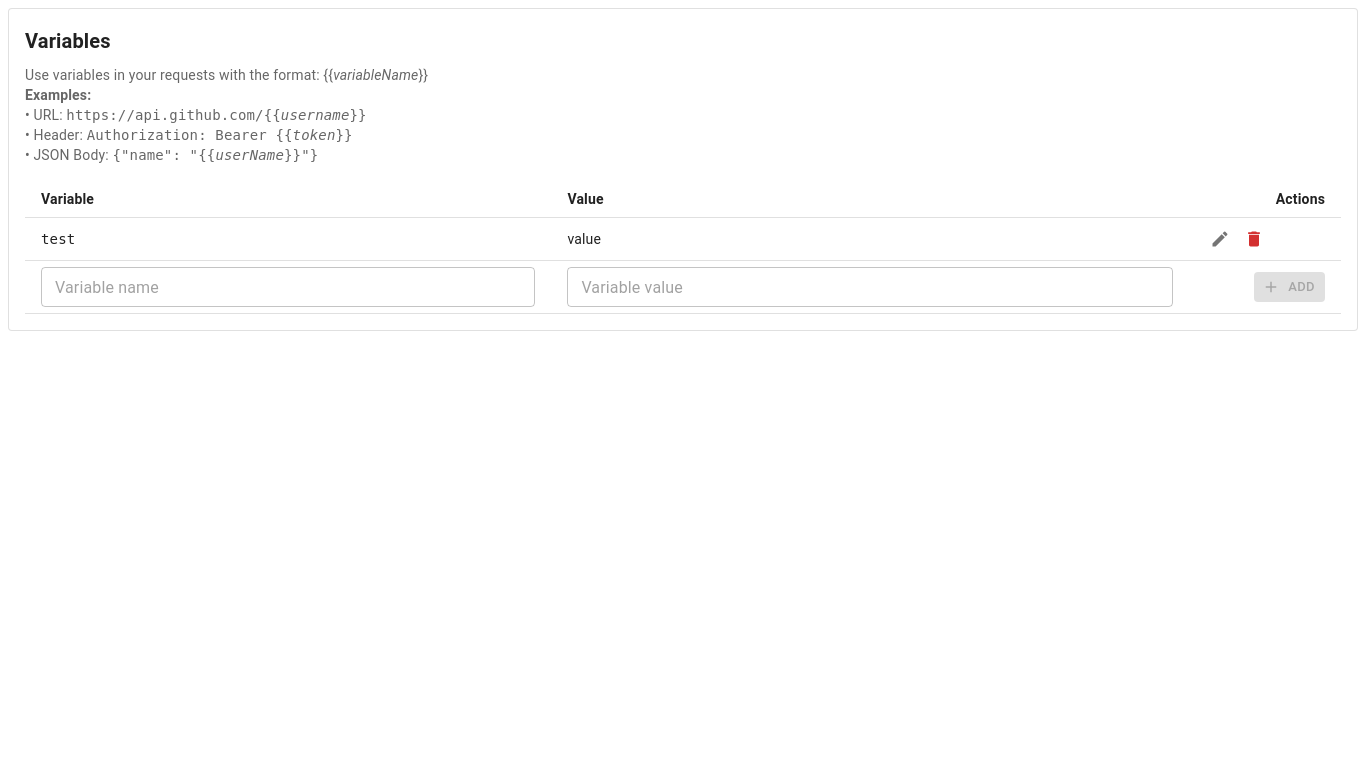
Scenario: ExistingVariables › should exit edit mode after successful save
The width and height of the screenshot is (1366, 768).
Click the button titled "Edit": click(1220, 239) [1205,224,1235,254]
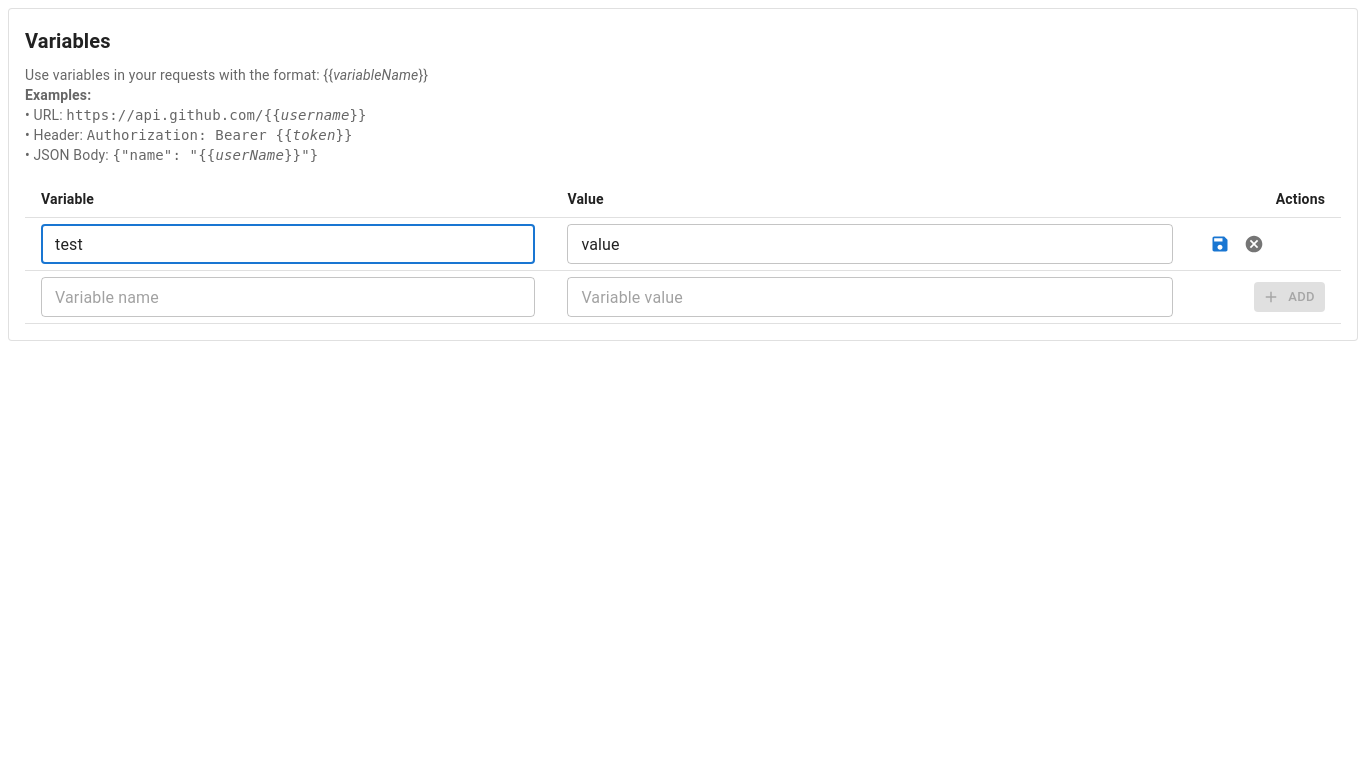
Click the button titled "Save": click(1220, 244) [1205,229,1235,259]
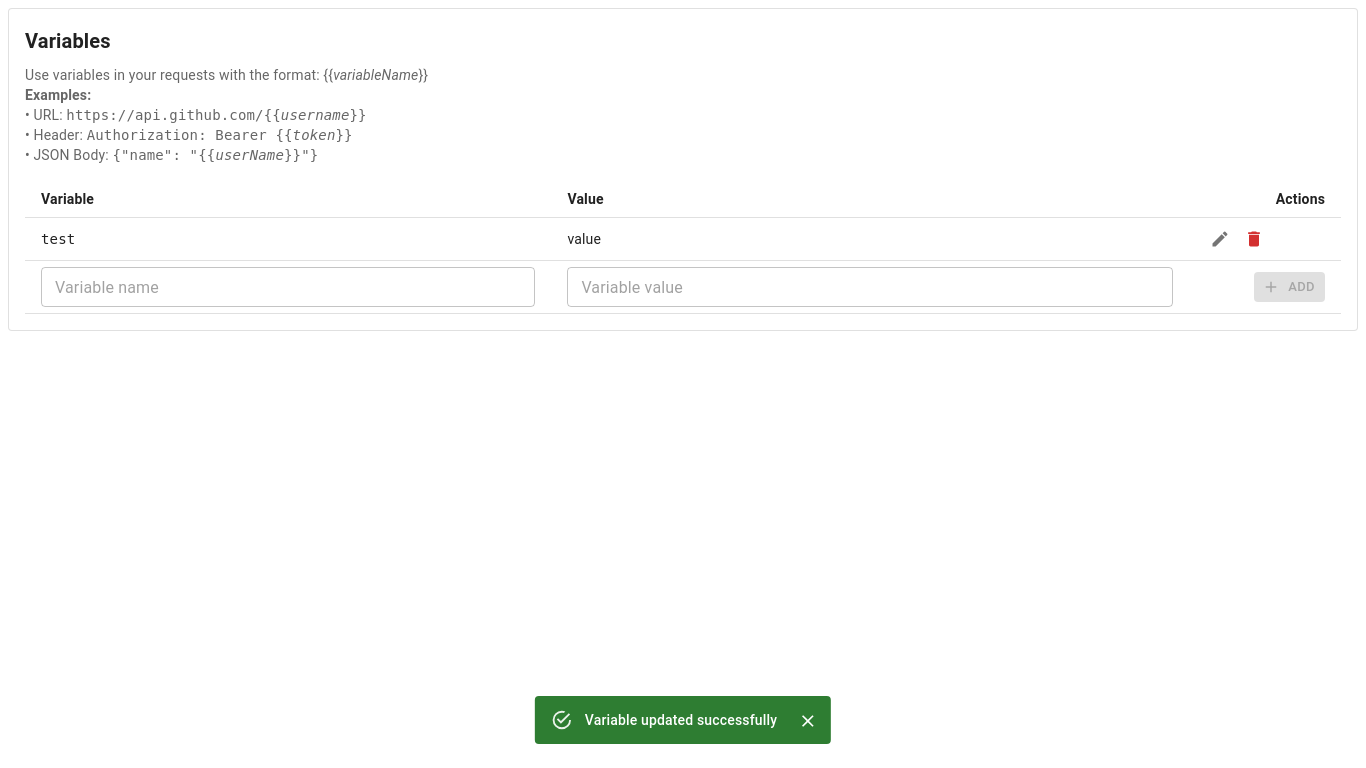
Expected: the button titled "Edit" is shown, [1205,224,1235,254]
Expected: the button titled "Delete" is shown, [1239,224,1269,254]
